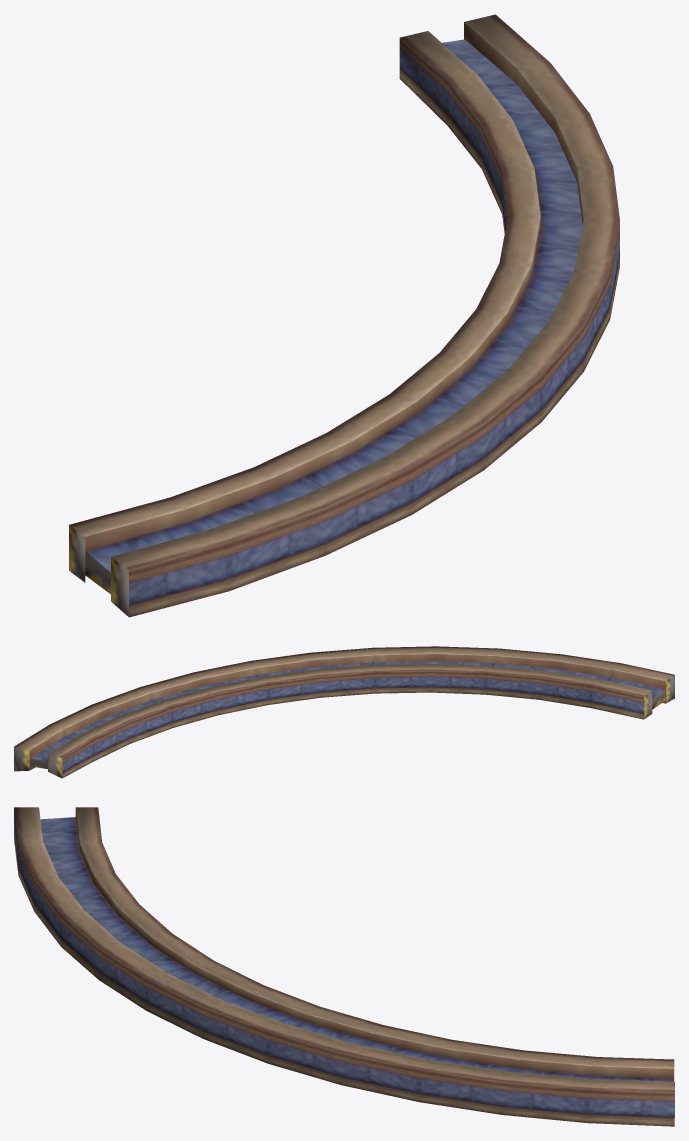
The model's file is S_Build_City090_1.FBX.
The picture shows the model from 3 angles, top to bottom: view 1: azimuth 30°, elevation 25°; view 2: azimuth 150°, elevation 25°; view 3: azimuth 270°, elevation 25°; orthographic projection. The views are drawn at different scales.
Visible parts, largest first — view 1: S_Build_City090 _1; view 2: S_Build_City090 _1; view 3: S_Build_City090 _1.
Part boxes in pixels (x1,y1,x2,y2): S_Build_City090 _1: (69,14,619,617); S_Build_City090 _1: (14,646,674,778); S_Build_City090 _1: (14,807,674,1126).
Bounding box in the file's own units: 1606 × 91.22 × 1575.
